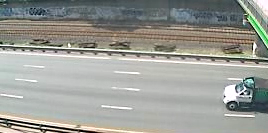car: (219, 75, 268, 112)
